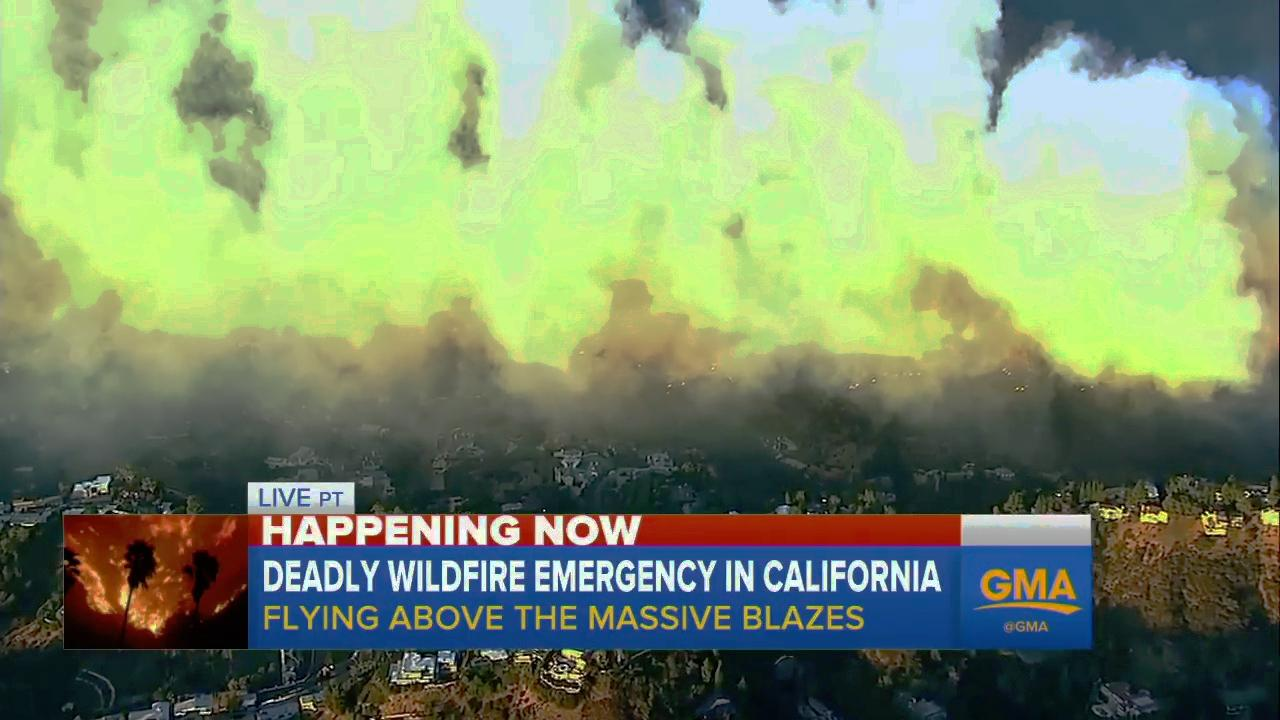smoke: (0, 0, 1276, 419), (0, 3, 603, 416), (658, 0, 955, 410), (921, 74, 1183, 398), (1189, 138, 1280, 394)
